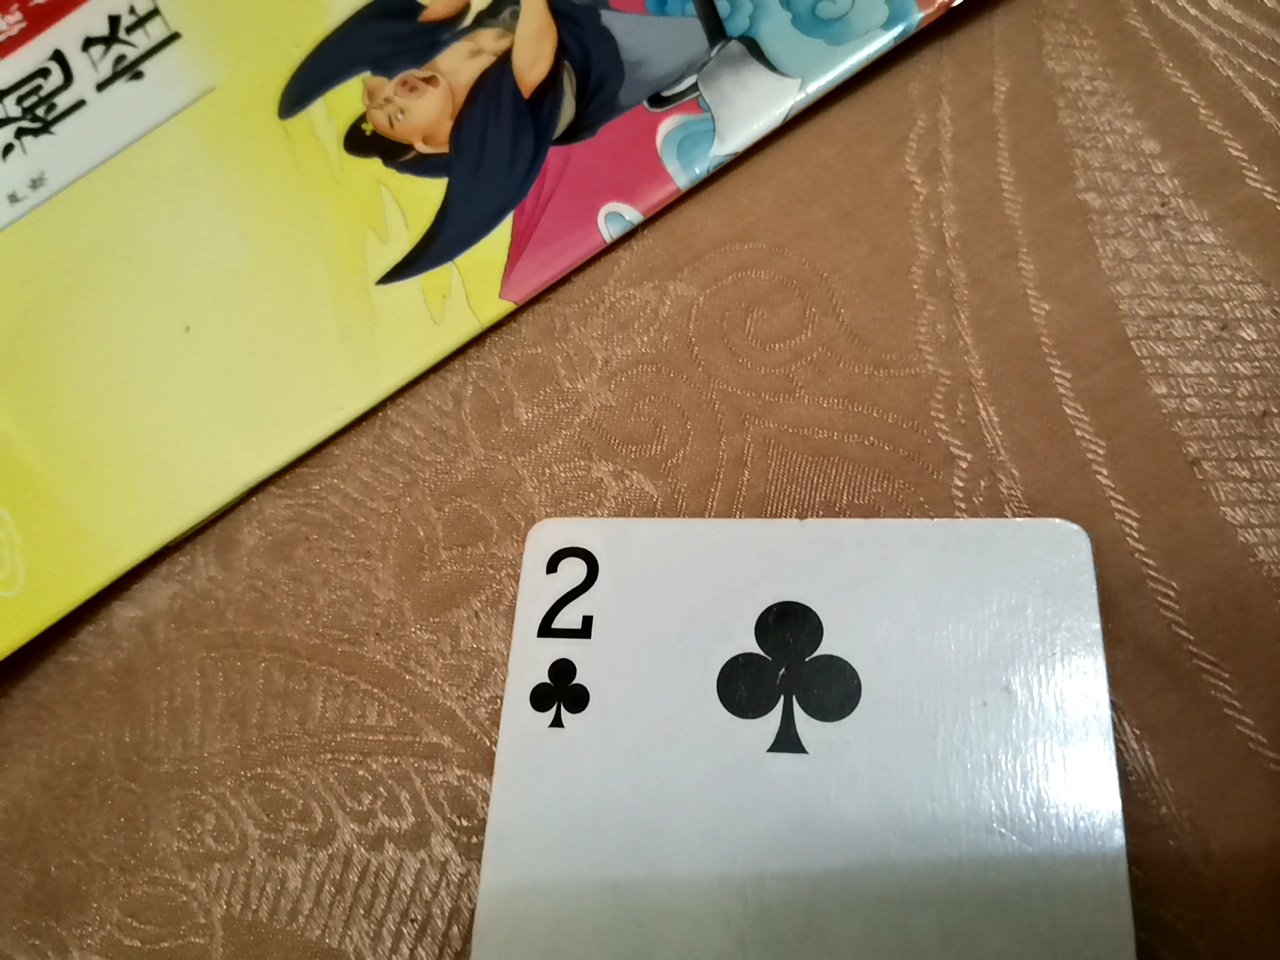mh 2: (469, 515, 1070, 925)
